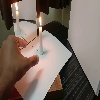fire: (38, 15, 42, 27)
